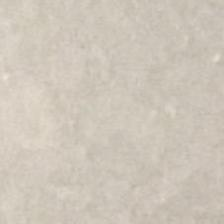Non_Crack: (6, 13, 210, 208)
